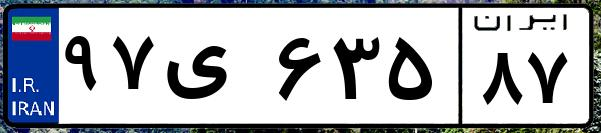3: (330, 28, 385, 110)
5: (385, 28, 445, 110)
6: (270, 28, 330, 110)
7: (525, 38, 570, 115), (110, 28, 158, 98)
8: (475, 38, 525, 113)
9: (57, 26, 110, 100)
ی: (158, 20, 270, 120)
